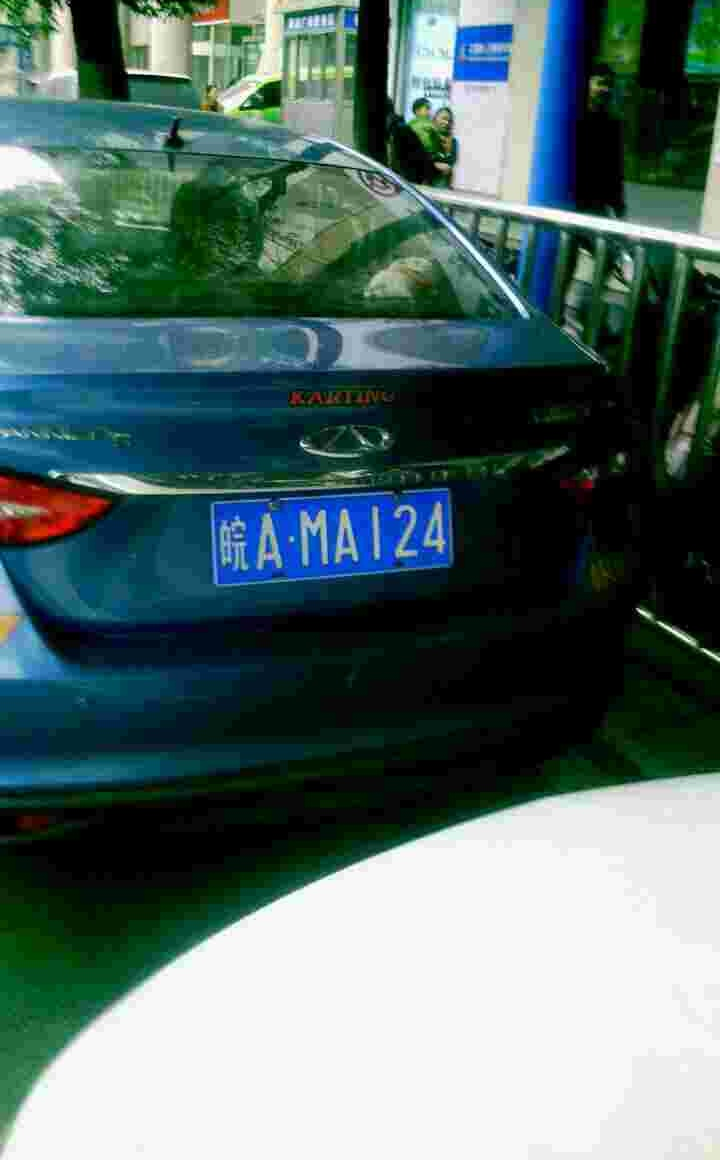license_plate: (191, 488, 455, 593)
